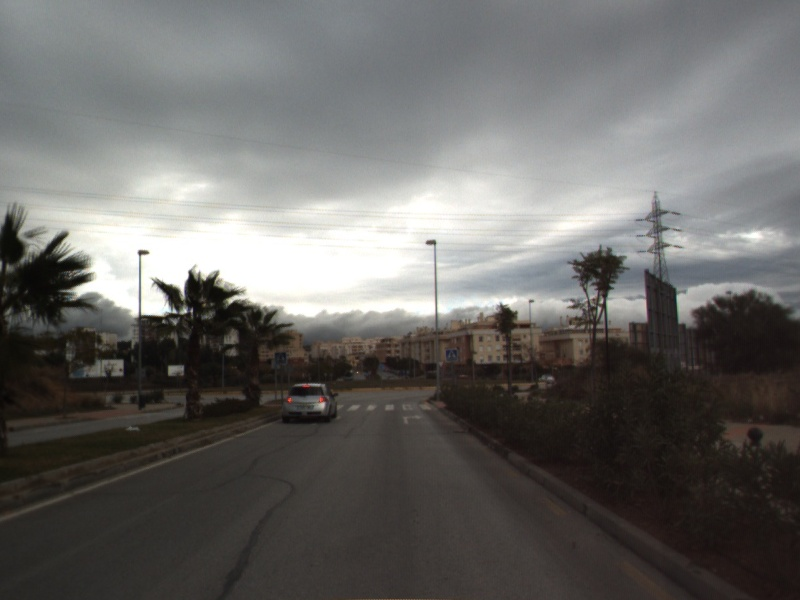RIGHT: (401, 412, 425, 426)
